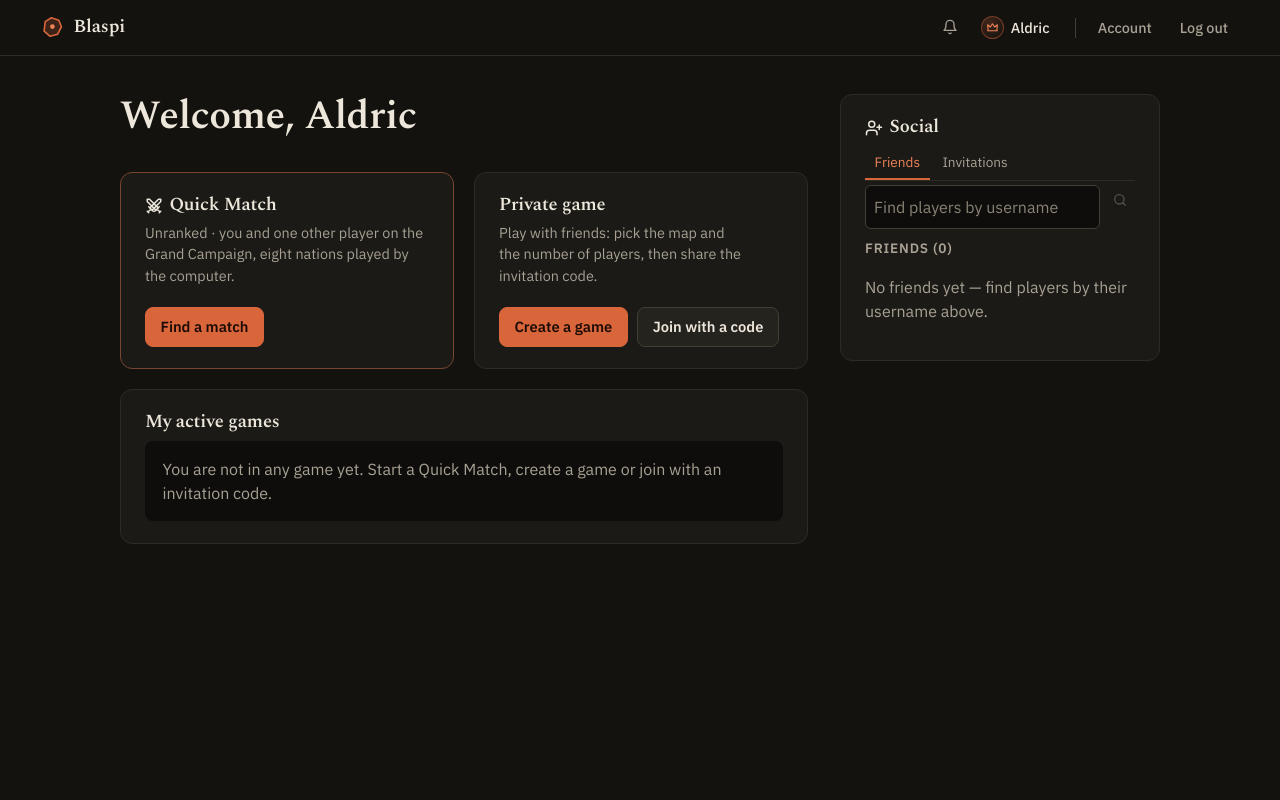
Test: DashboardPage › closes the create dialog with Escape without creating anything
Click the button "Create a game".
click(563, 327)  # box [499,307,628,347]
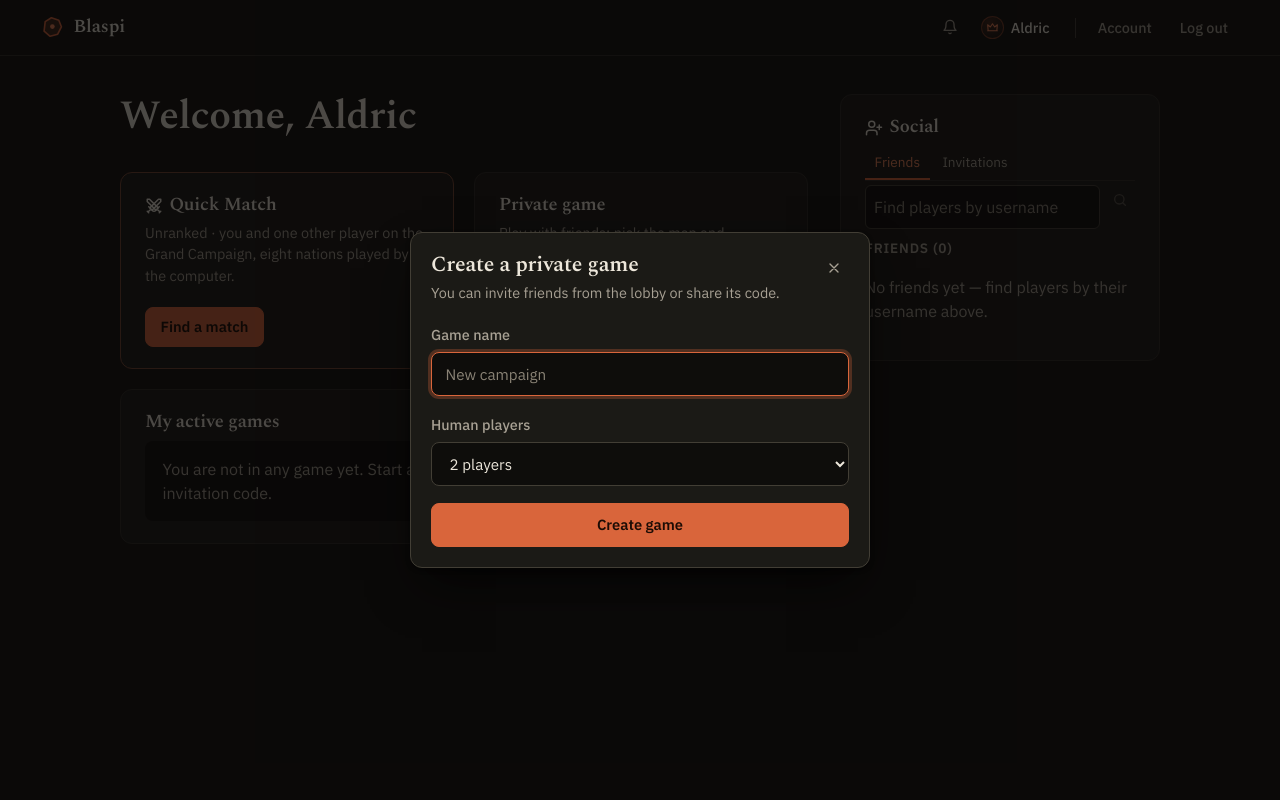
Press Escape
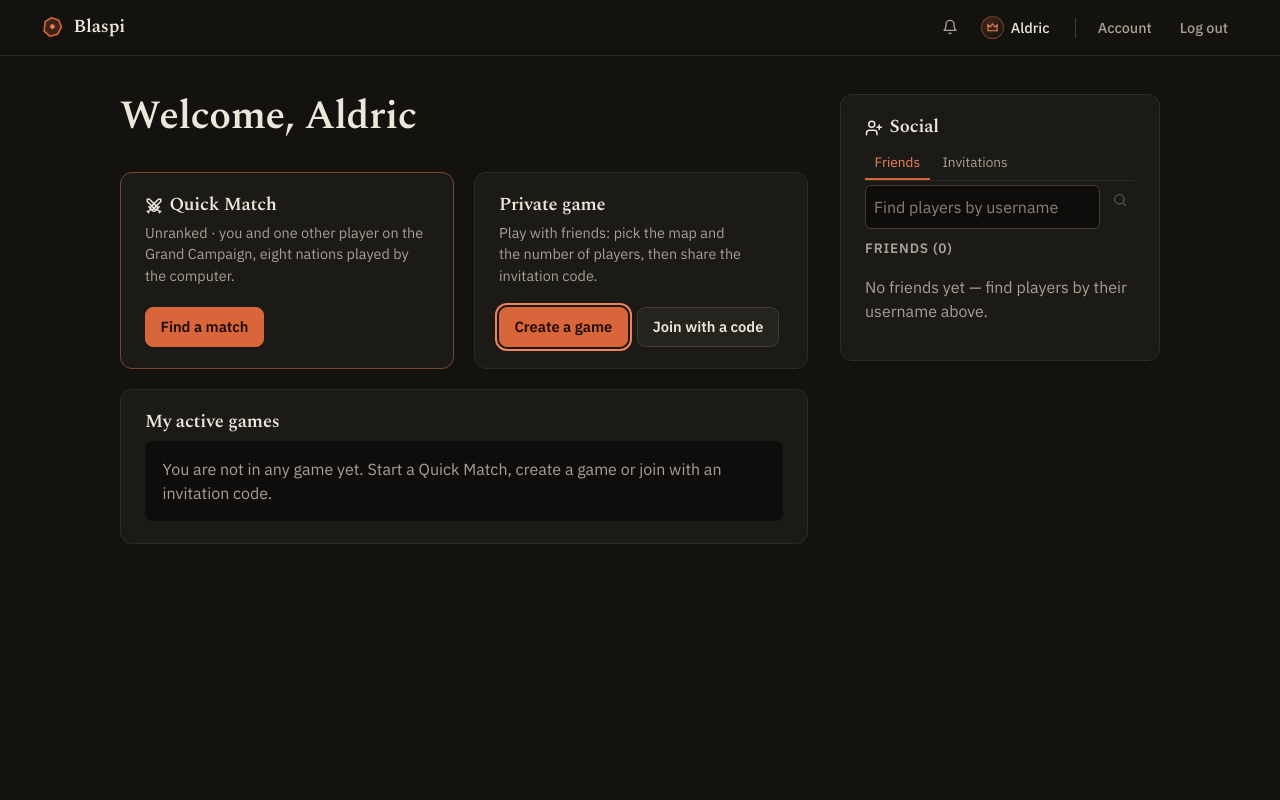
Result: the dialog is gone
